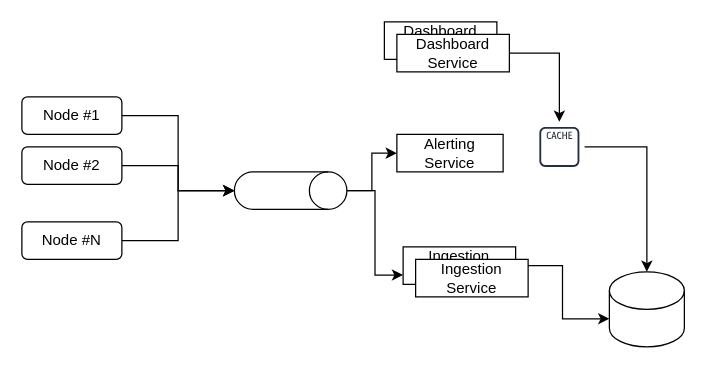
Some shapes in this 706 by 369 pixel diagram are drawn without their labels. Here are the shapes that lost their labels. From the top down, the centre of each, then its label:
At [558,146]: "Cache node".
At [290,190]: "SNS Topic".
At [646,309]: "Metrics DB".
